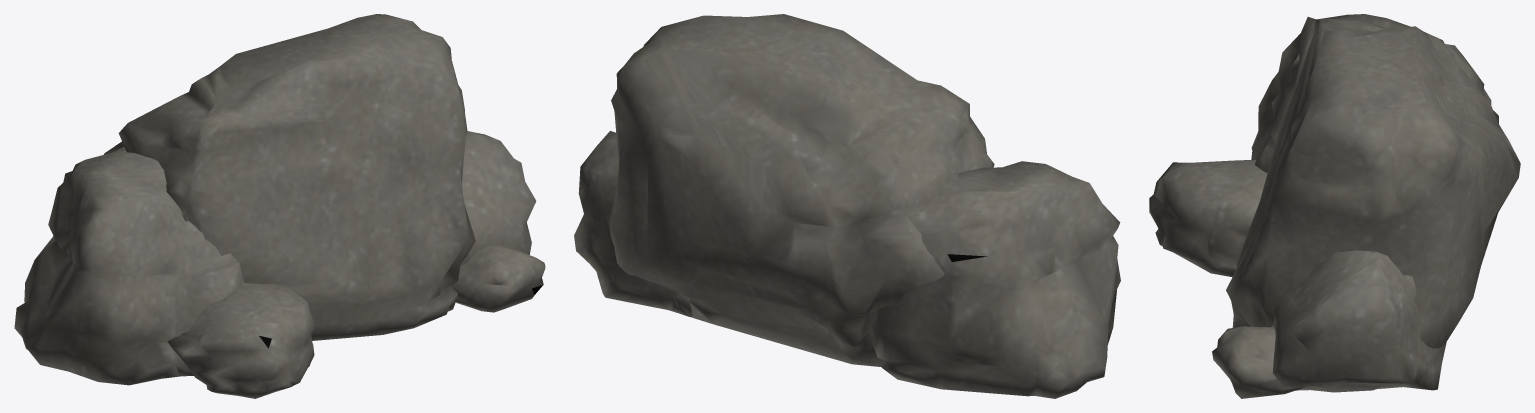
File: coastal_outcrop_LOD1.fbx
3 renders of one model, left to right at view 1: azimuth 30°, elevation 25°; view 2: azimuth 150°, elevation 25°; view 3: azimuth 270°, elevation 25°, orthographic. The views are drawn at different scales.
Parts seen in each view (by area): view 1: coastal_outcrop_LOD1; view 2: coastal_outcrop_LOD1; view 3: coastal_outcrop_LOD1.
Boxes of the visible parts, x1=… form: coastal_outcrop_LOD1: x1=14, y1=14, x2=545, y2=398; coastal_outcrop_LOD1: x1=574, y1=14, x2=1120, y2=398; coastal_outcrop_LOD1: x1=1149, y1=14, x2=1520, y2=398.
Bounding box in the file's own units: 801 × 400 × 499.
